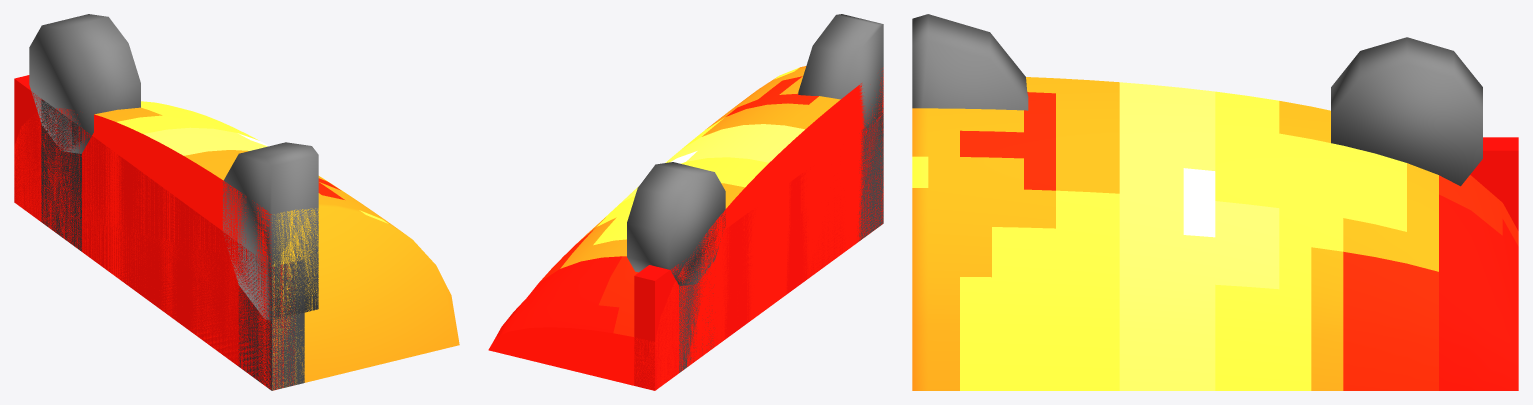
Rendered from newsha-231-f2.glb.
3 renders of one model, left to right at view 1: azimuth 30°, elevation 25°; view 2: azimuth 150°, elevation 25°; view 3: azimuth 270°, elevation 25°, orthographic. The views are drawn at different scales.
Visible parts, largest first — view 1: newsha-231-f2; view 2: newsha-231-f2; view 3: newsha-231-f2.
Boxes of the visible parts, box(x1,y1,x2,y2) form: newsha-231-f2: box(14, 14, 459, 390); newsha-231-f2: box(488, 14, 883, 390); newsha-231-f2: box(912, 14, 1518, 390).
Bounding box in the file's own units: 0.6667 × 0.775 × 1.58.
